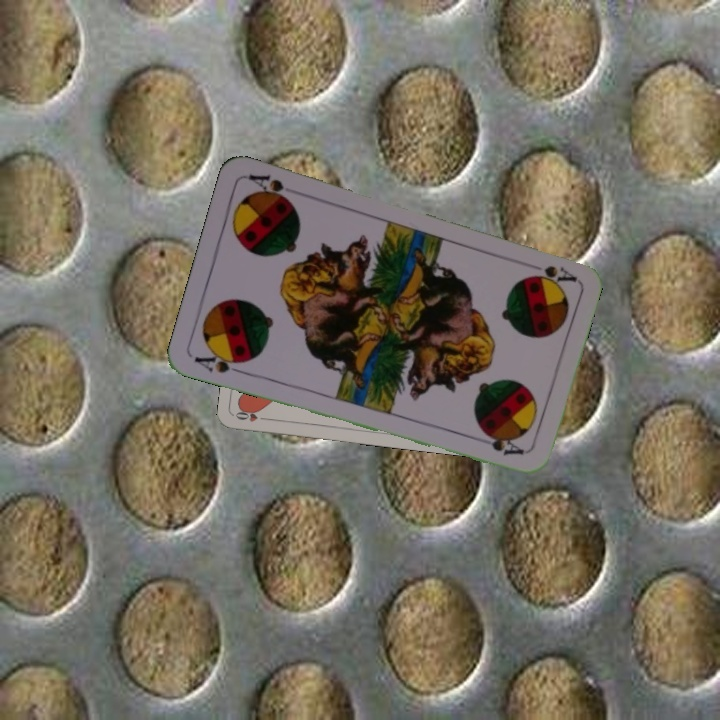HO: (231, 406, 272, 424)
SA: (190, 347, 251, 378), (520, 258, 578, 285)
